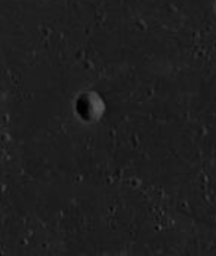crater: (42, 70, 136, 150)
